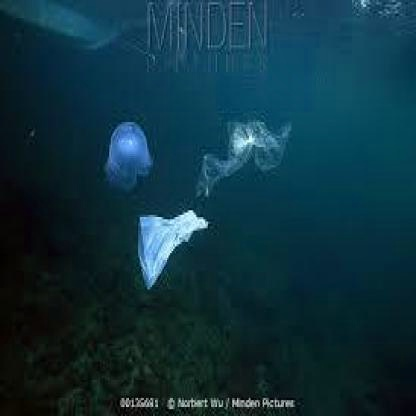pbag: (191, 104, 302, 201), (135, 208, 216, 285), (94, 113, 158, 192)
